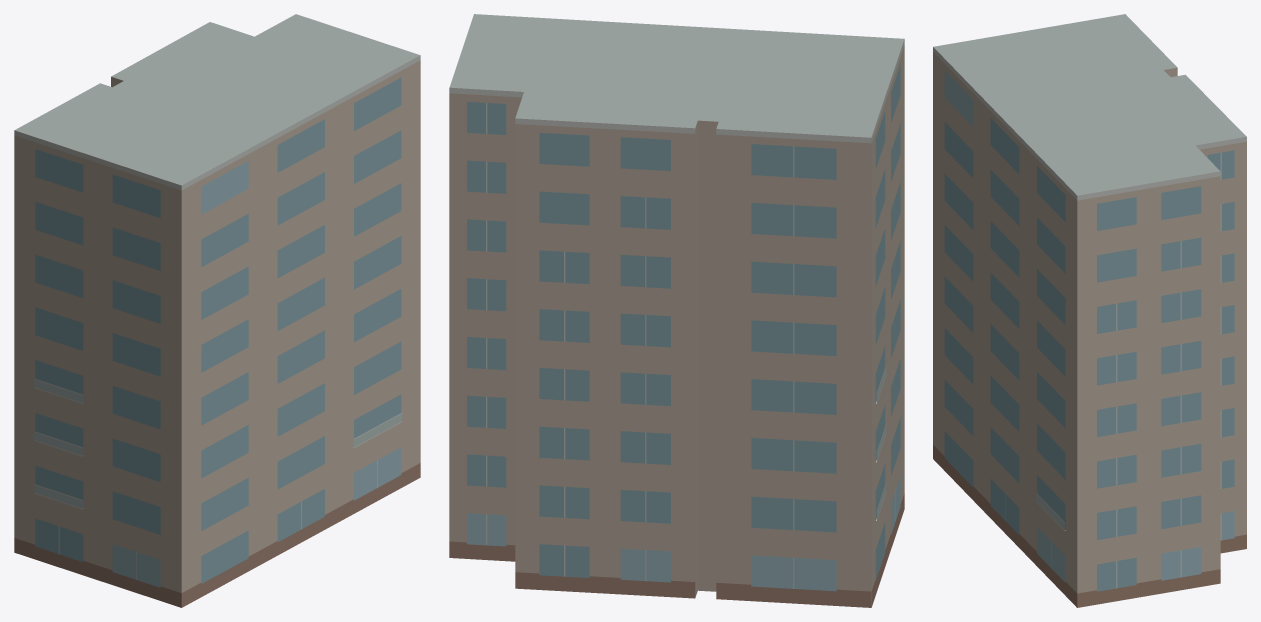
The model's file is survey-upis-32599471.glb.
The picture shows the model from 3 angles, left to right: view 1: azimuth 30°, elevation 25°; view 2: azimuth 150°, elevation 25°; view 3: azimuth 270°, elevation 25°; orthographic projection. The views are drawn at different scales.
Visible parts, largest first — view 1: survey-upis-32599471.tmp; view 2: survey-upis-32599471.tmp; view 3: survey-upis-32599471.tmp.
Part boxes in pixels (left/top/right/bottom): survey-upis-32599471.tmp: left=14, top=14, right=420, bottom=607; survey-upis-32599471.tmp: left=449, top=14, right=904, bottom=607; survey-upis-32599471.tmp: left=933, top=14, right=1246, bottom=607.
Bounding box in the file's own units: 19.49 × 20.6 × 14.22.
